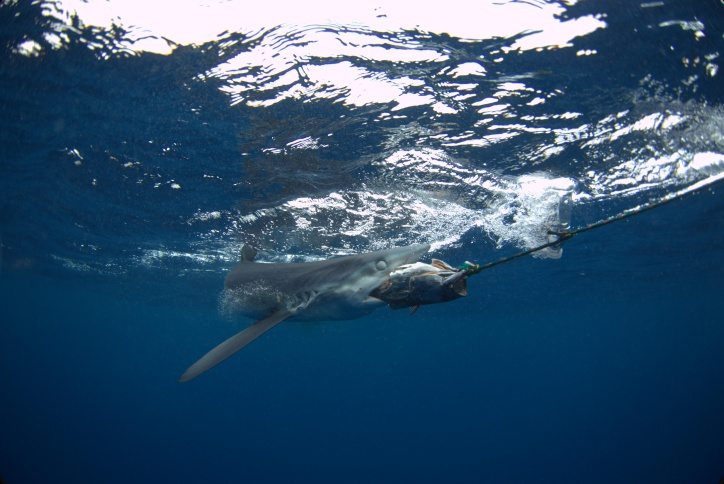Azul: (175, 219, 440, 393)
